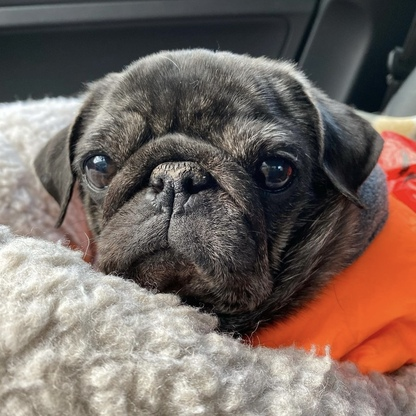Pug: (24, 39, 416, 379)
